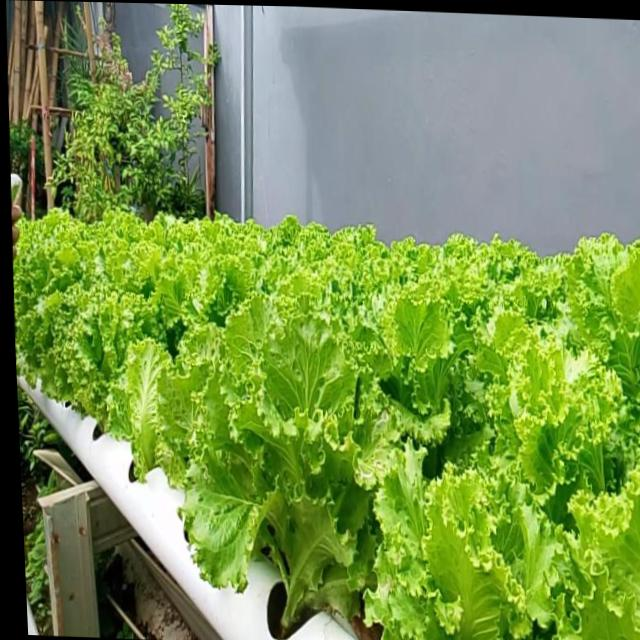Mature: (13, 207, 640, 640), (176, 308, 397, 640), (53, 286, 159, 450)
